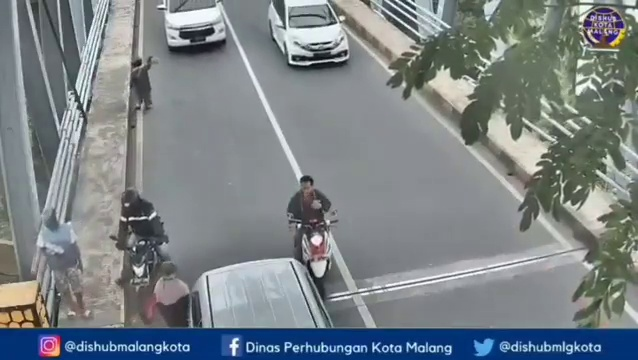car: (263, 2, 353, 69), (160, 1, 228, 52)
motorbike: (113, 189, 170, 318), (282, 175, 336, 296)
